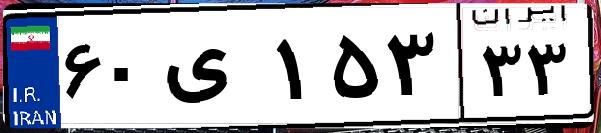0: (110, 28, 158, 98)
1: (270, 28, 330, 110)
3: (385, 28, 445, 110), (475, 38, 525, 113), (525, 38, 570, 115)
5: (330, 28, 385, 110)
6: (57, 26, 110, 100)
ی: (158, 20, 270, 120)
